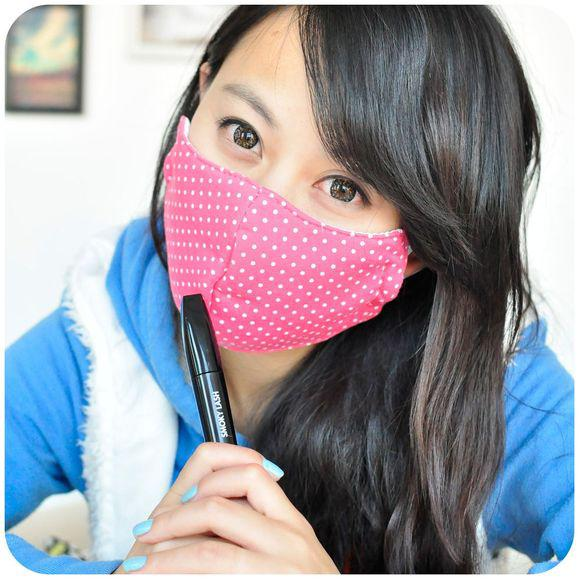OK: (165, 88, 420, 343)
